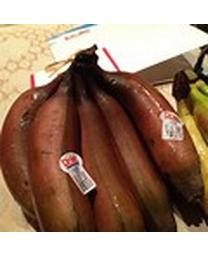banana: (1, 44, 206, 231)
